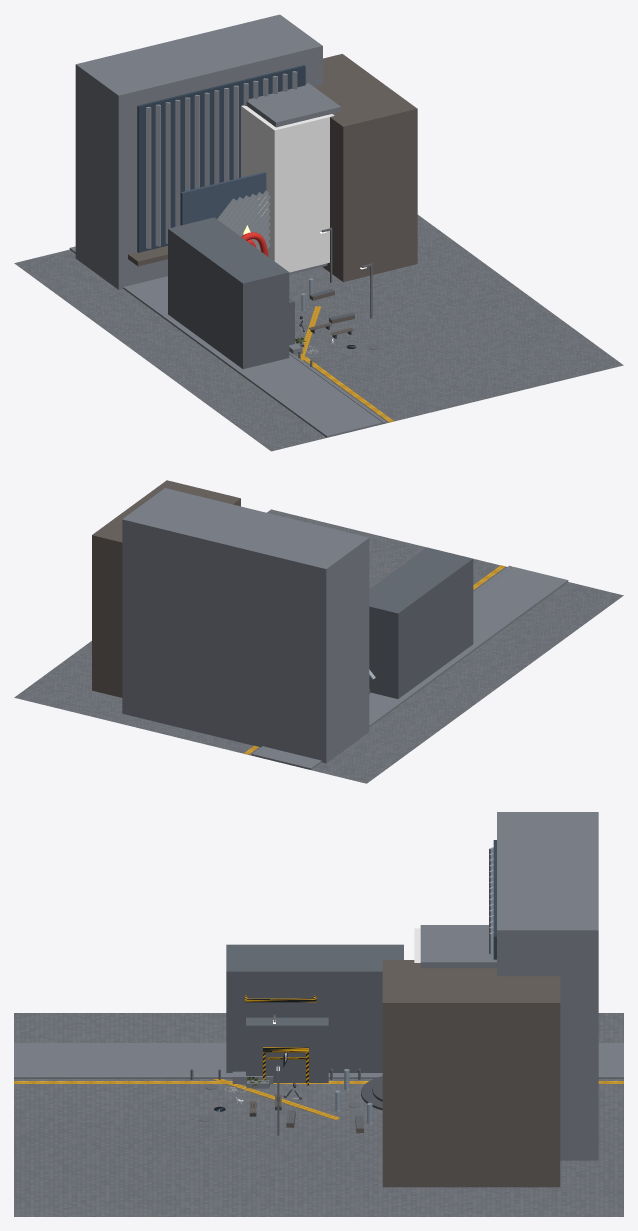
File: lumina_plaza_masterpiece_full.glb
3 renders of one model, top to bottom at view 1: azimuth 30°, elevation 25°; view 2: azimuth 150°, elevation 25°; view 3: azimuth 270°, elevation 25°, orthographic. The views are drawn at different scales.
Parts seen in each view (by area): view 1: Plaza_Floor, Cube.003, Cube.039, EZ_Building_Mass, Skyline_Commercial_Tower, Cube.004, Sidewalk_Platform, Skyline_Tower_Right, HIA_Glass_Backing, Cube.006, Cube.005, Cube.007 (+1 smaller); view 2: Cube.003, Plaza_Floor, EZ_Building_Mass, Cube.039, Sidewalk_Platform; view 3: Plaza_Floor, Cube.039, Cube.003, EZ_Building_Mass, Sidewalk_Platform, EZ_Wall_Main, Skyline_Tower_Right, Sidewalk_Curb, Tactile_Strip_Main.
Boxes of the visible parts, left/top/right/bottom form: Plaza_Floor: left=14, top=215, right=623, bottom=451; Cube.003: left=75, top=14, right=322, bottom=289; Cube.039: left=314, top=54, right=417, bottom=282; EZ_Building_Mass: left=168, top=217, right=289, bottom=369; Skyline_Commercial_Tower: left=241, top=105, right=334, bottom=272; Cube.004: left=137, top=65, right=305, bottom=252; Sidewalk_Platform: left=69, top=246, right=382, bottom=437; Skyline_Tower_Right: left=246, top=83, right=340, bottom=274; HIA_Glass_Backing: left=180, top=172, right=266, bottom=225; Cube.006: left=155, top=104, right=160, bottom=246; Cube.005: left=146, top=107, right=151, bottom=248; Cube.007: left=165, top=102, right=170, bottom=243; Cube.003: left=122, top=488, right=369, bottom=763; Plaza_Floor: left=14, top=509, right=623, bottom=783; EZ_Building_Mass: left=369, top=547, right=473, bottom=698; Cube.039: left=92, top=480, right=240, bottom=697; Sidewalk_Platform: left=255, top=566, right=568, bottom=769; Plaza_Floor: left=14, top=1013, right=623, bottom=1216; Cube.039: left=382, top=960, right=560, bottom=1187; Cube.003: left=497, top=812, right=598, bottom=1160; EZ_Building_Mass: left=226, top=944, right=403, bottom=1072; Sidewalk_Platform: left=14, top=1043, right=623, bottom=1075; EZ_Wall_Main: left=246, top=1017, right=328, bottom=1082; Skyline_Tower_Right: left=420, top=925, right=496, bottom=968; Sidewalk_Curb: left=14, top=1075, right=623, bottom=1078; Tactile_Strip_Main: left=14, top=1081, right=623, bottom=1083.
Bounding box in the file's own units: 38 × 20.05 × 48.
Materials: 33 (15 with a texture image).
